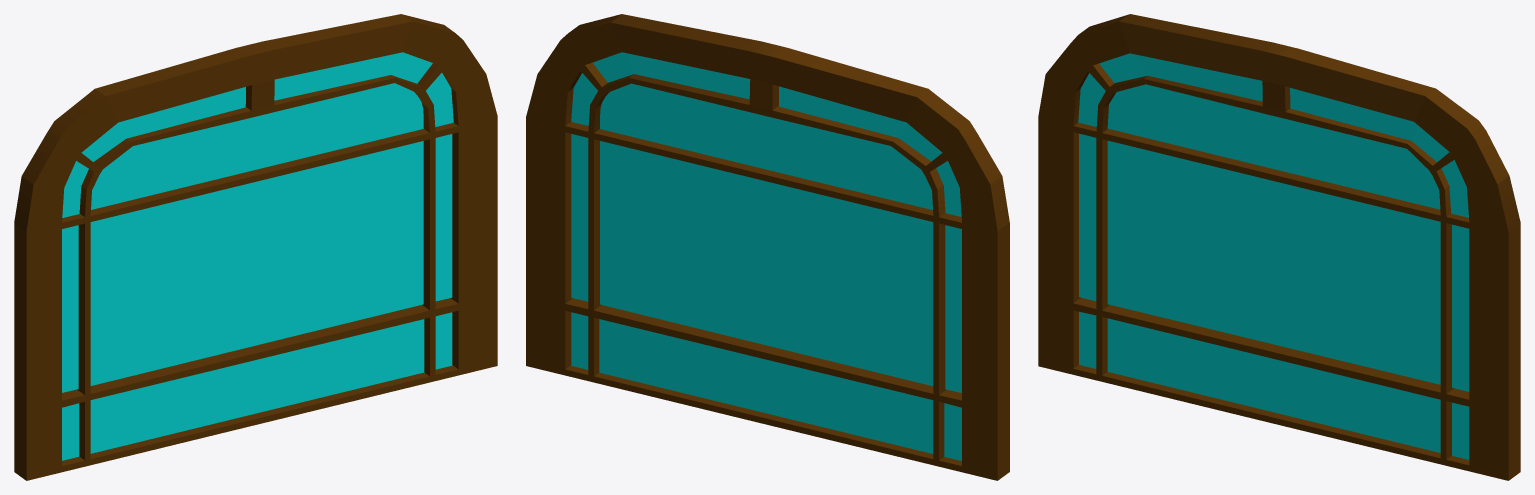
Rendered from Vidriera_Final_Final.fbx.
3 renders of one model, left to right at view 1: azimuth 30°, elevation 25°; view 2: azimuth 150°, elevation 25°; view 3: azimuth 330°, elevation 25°, orthographic.
Visible parts, largest first — view 1: Vidriera_Grande; view 2: Vidriera_Grande; view 3: Vidriera_Grande.
Part boxes in pixels (x1,y1,x2,y2): Vidriera_Grande: (14,14,497,480); Vidriera_Grande: (526,14,1009,480); Vidriera_Grande: (1038,14,1520,480).
Size of the model in its own units: 400 by 300 by 19.26.
